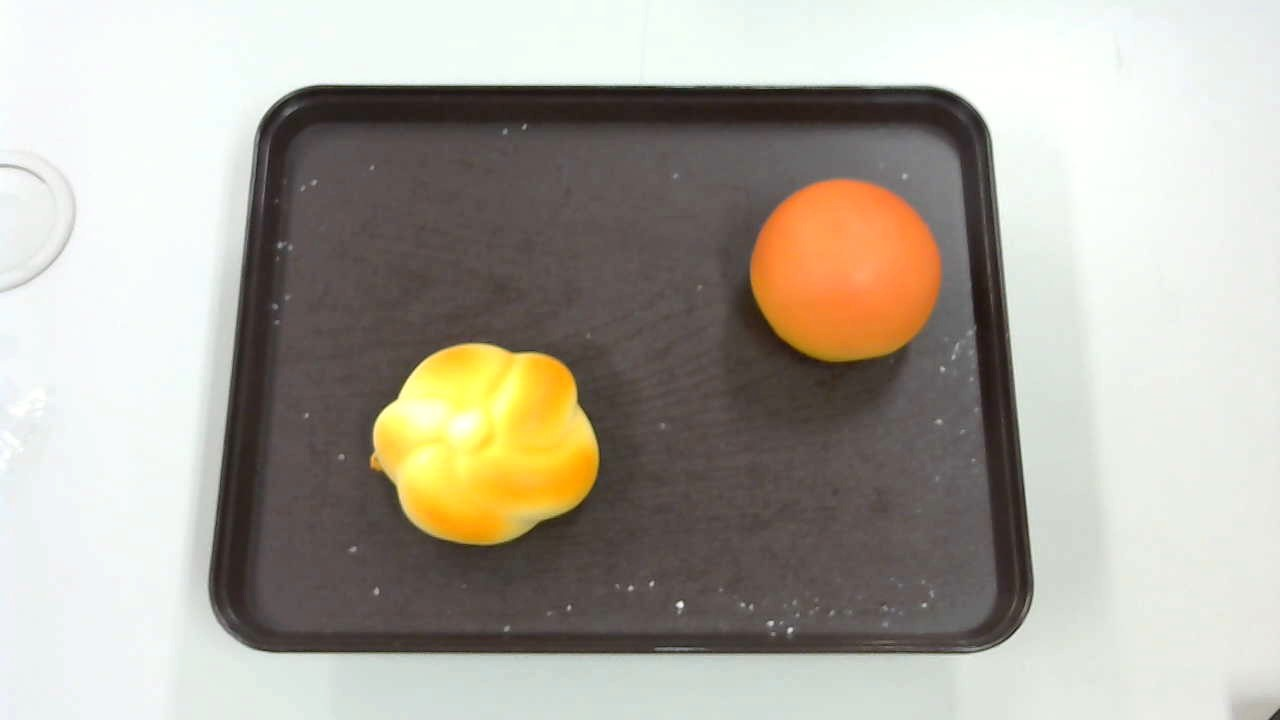bun: (750, 180, 942, 363)
twist bread: (370, 342, 599, 547)
